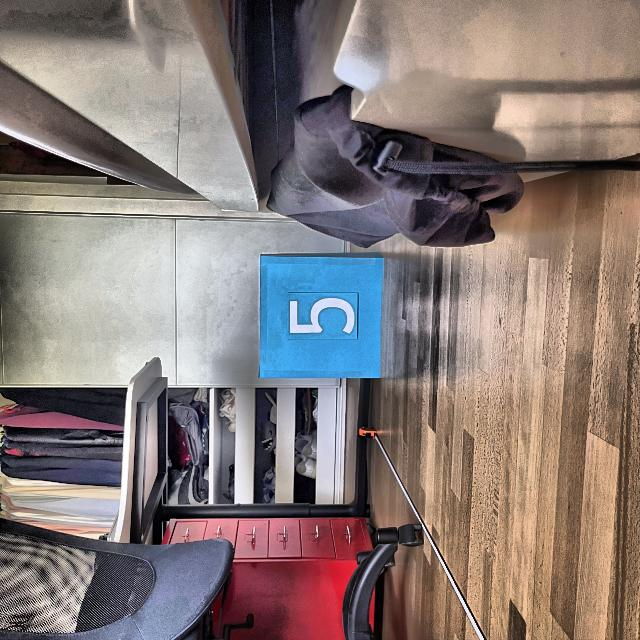blue box: (254, 247, 386, 384)
five: (287, 291, 360, 340)
